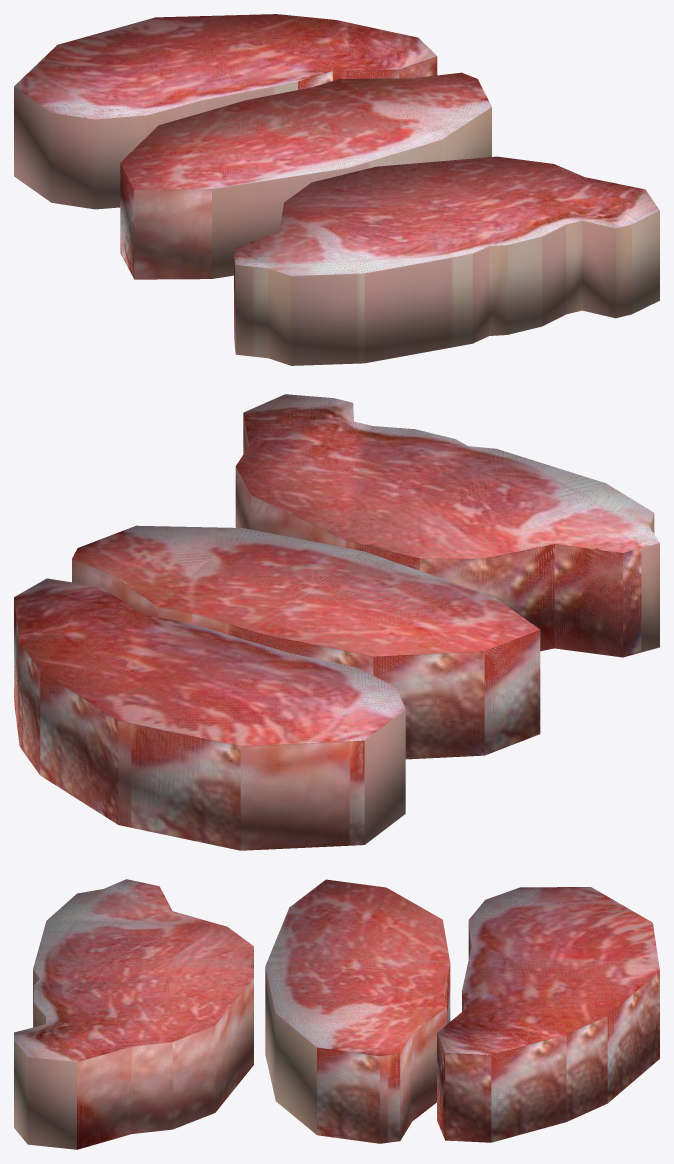
File: beef.dae
3 views of the same model, one above another, from view 1: azimuth 30°, elevation 25°; view 2: azimuth 150°, elevation 25°; view 3: azimuth 270°, elevation 25° (orthographic). The views are drawn at different scales.
Visible parts, largest first — view 1: Group_51 (×8); view 2: Group_51 (×8); view 3: Group_51 (×8).
Part boxes in pixels (x1,y1,x2,y2): Group_51 (×8): (14, 14, 659, 365); Group_51 (×8): (14, 394, 659, 850); Group_51 (×8): (14, 879, 659, 1149).
Size of the model in its own units: 6.71 by 10.01 by 1.5.
4 materials, 4 textured.
